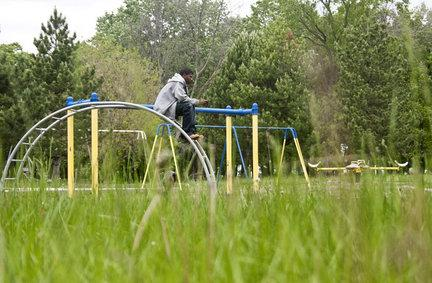overgrown grass: (0, 184, 431, 282)
